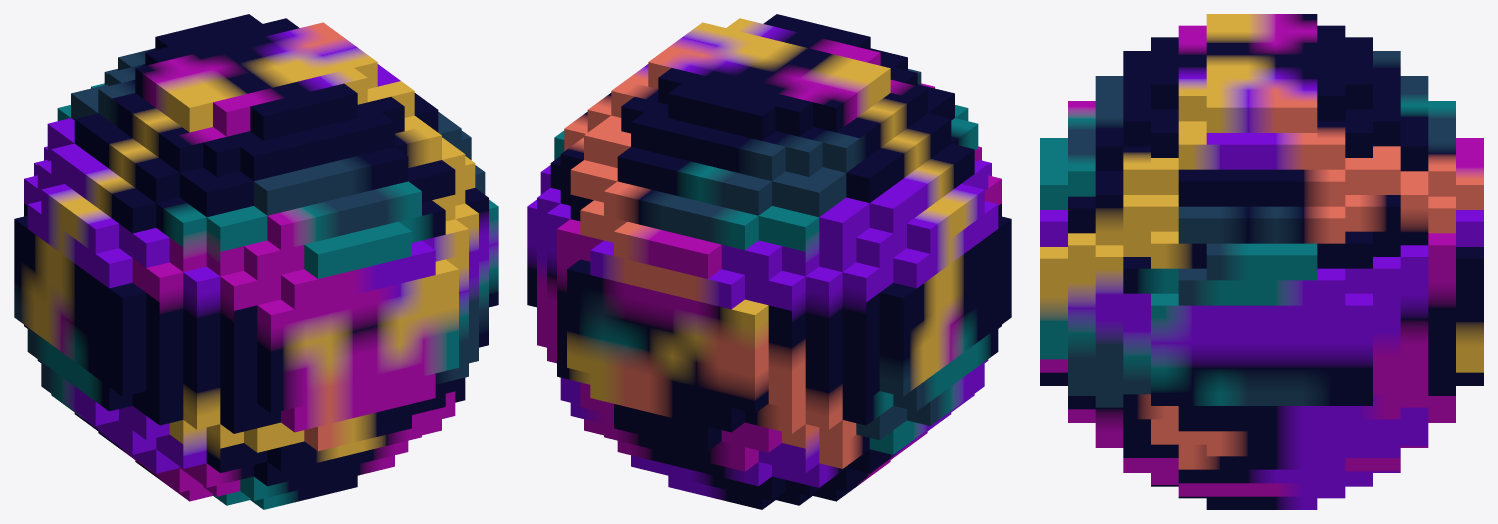
Rendered from Mercury.fbx.
3 views of the same model, side by side, from view 1: azimuth 30°, elevation 25°; view 2: azimuth 150°, elevation 25°; view 3: azimuth 270°, elevation 25° (orthographic). The views are drawn at different scales.
Visible parts, largest first — view 1: Mercury; view 2: Mercury; view 3: Mercury.
Boxes of the visible parts, left/top/right/bottom form: Mercury: left=14, top=14, right=498, bottom=509; Mercury: left=527, top=14, right=1011, bottom=509; Mercury: left=1040, top=14, right=1483, bottom=509.
Size of the model in its own units: 16 by 16 by 16.
1 material, 1 textured.
